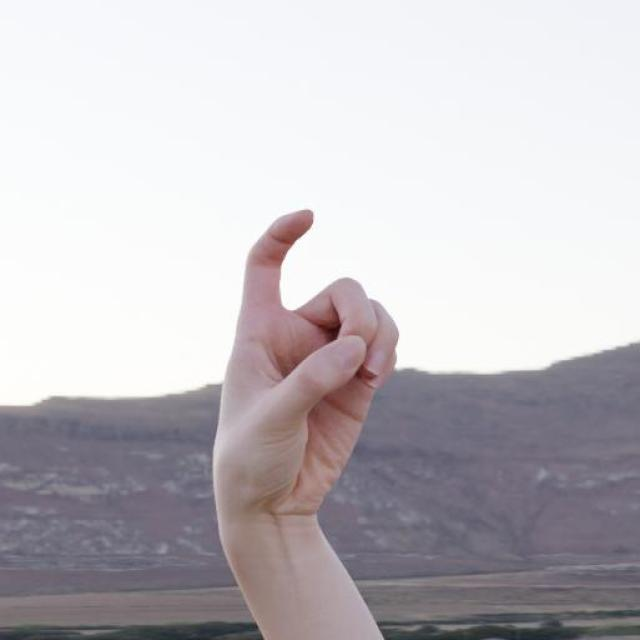X: (201, 205, 414, 597)
